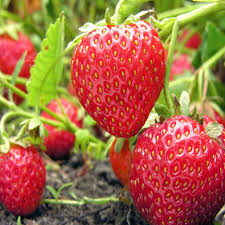Fresa: (68, 16, 172, 142), (121, 107, 225, 225), (1, 136, 51, 219), (1, 21, 41, 111)
